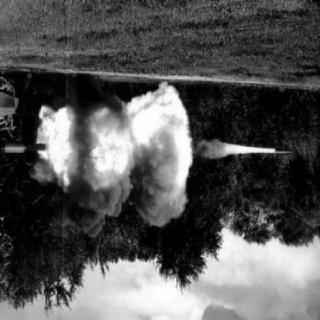Fire: (32, 87, 204, 220)
